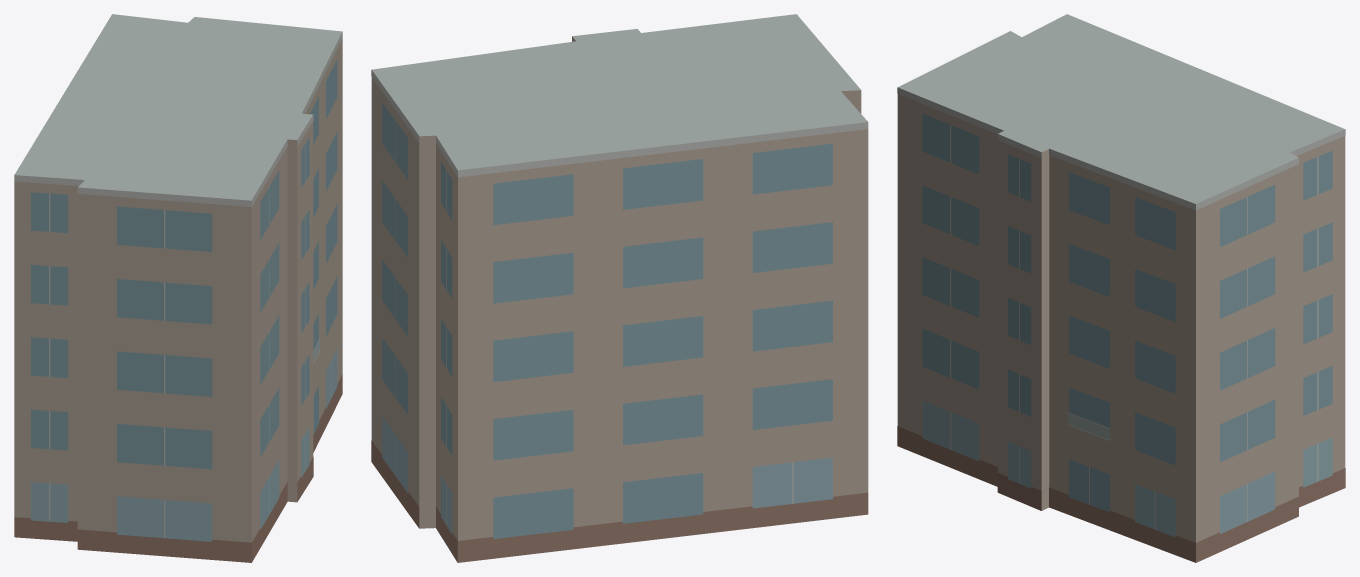
File: survey-upis-32934283.glb
The picture shows the model from 3 angles, left to right: view 1: azimuth 30°, elevation 25°; view 2: azimuth 150°, elevation 25°; view 3: azimuth 270°, elevation 25°; orthographic projection. The views are drawn at different scales.
Parts seen in each view (by area): view 1: survey-upis-32934283.tmp; view 2: survey-upis-32934283.tmp; view 3: survey-upis-32934283.tmp.
Boxes of the visible parts, bbox=[...] form: survey-upis-32934283.tmp: bbox=[14, 14, 342, 562]; survey-upis-32934283.tmp: bbox=[371, 14, 868, 562]; survey-upis-32934283.tmp: bbox=[897, 14, 1345, 562].
Size of the model in its own units: 15.64 by 13.75 by 15.57.
